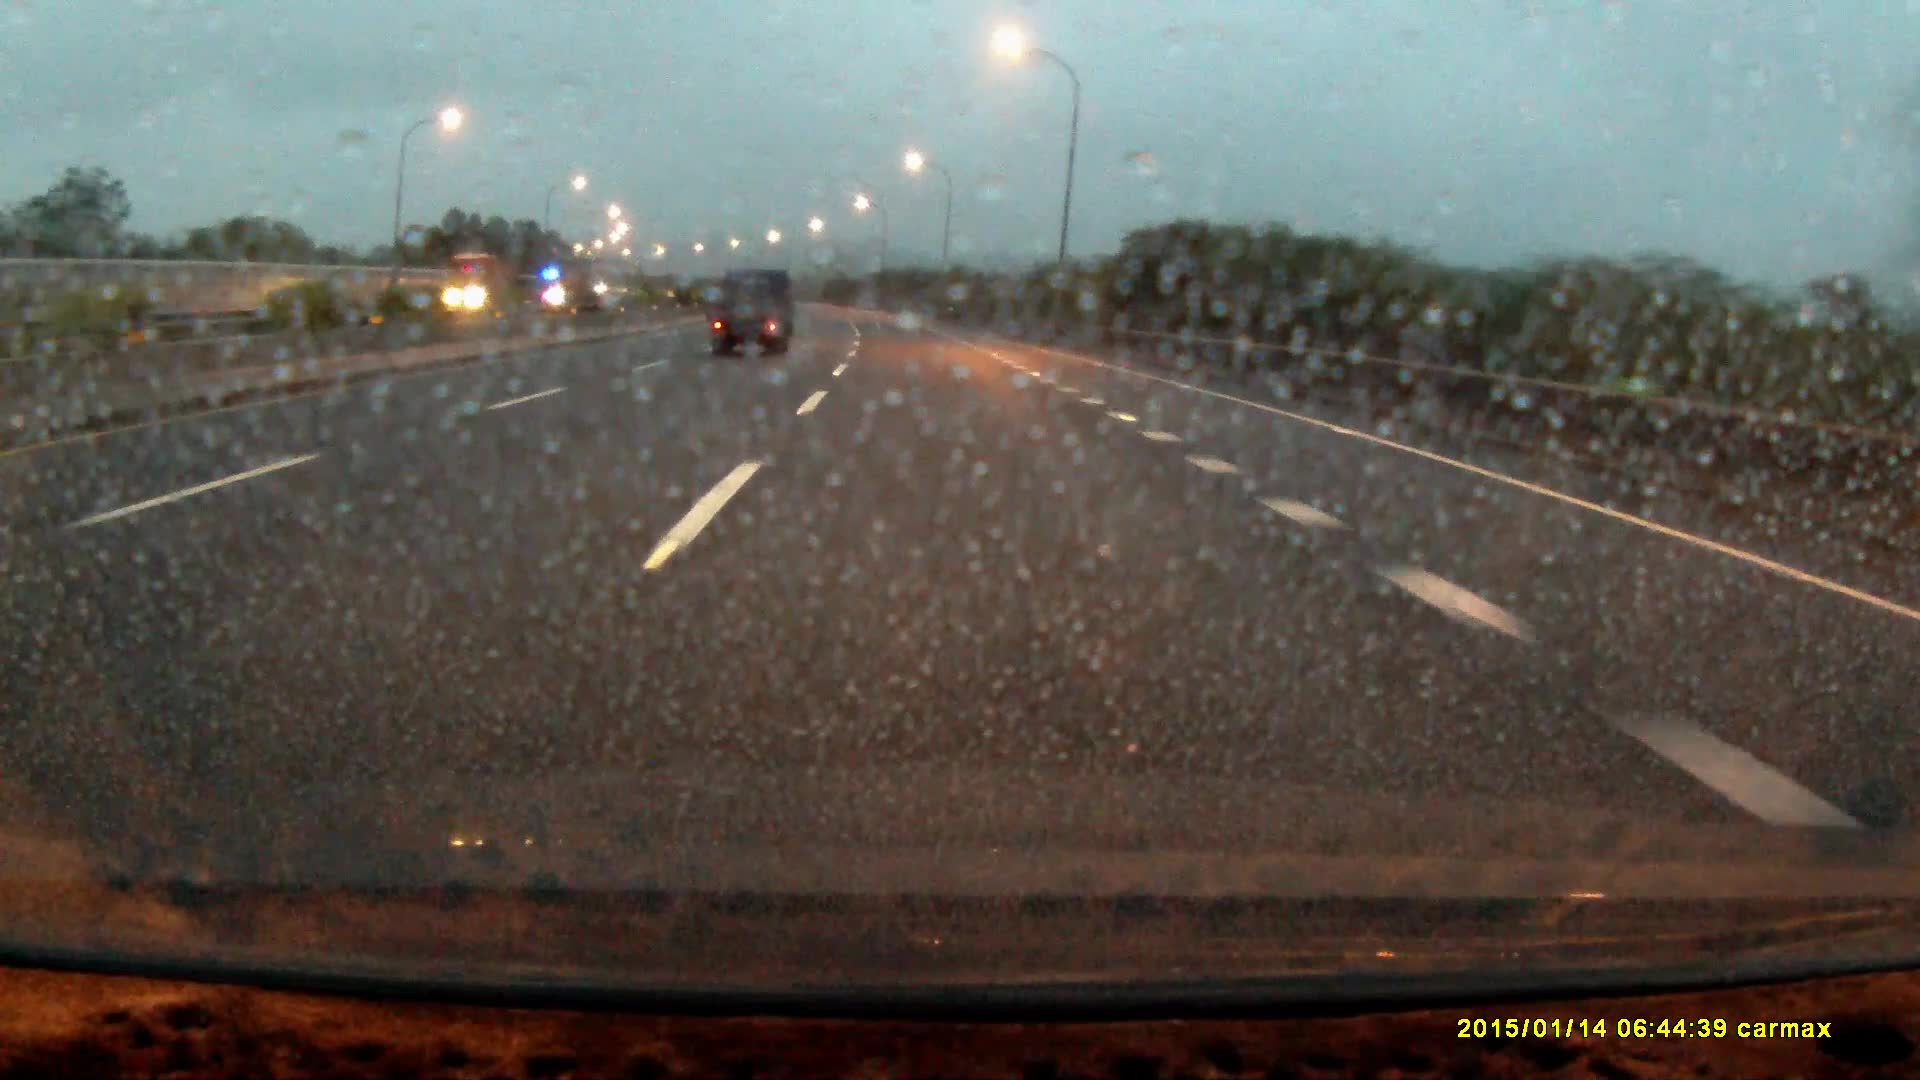vehicle: (713, 266, 793, 360), (444, 251, 522, 314)
